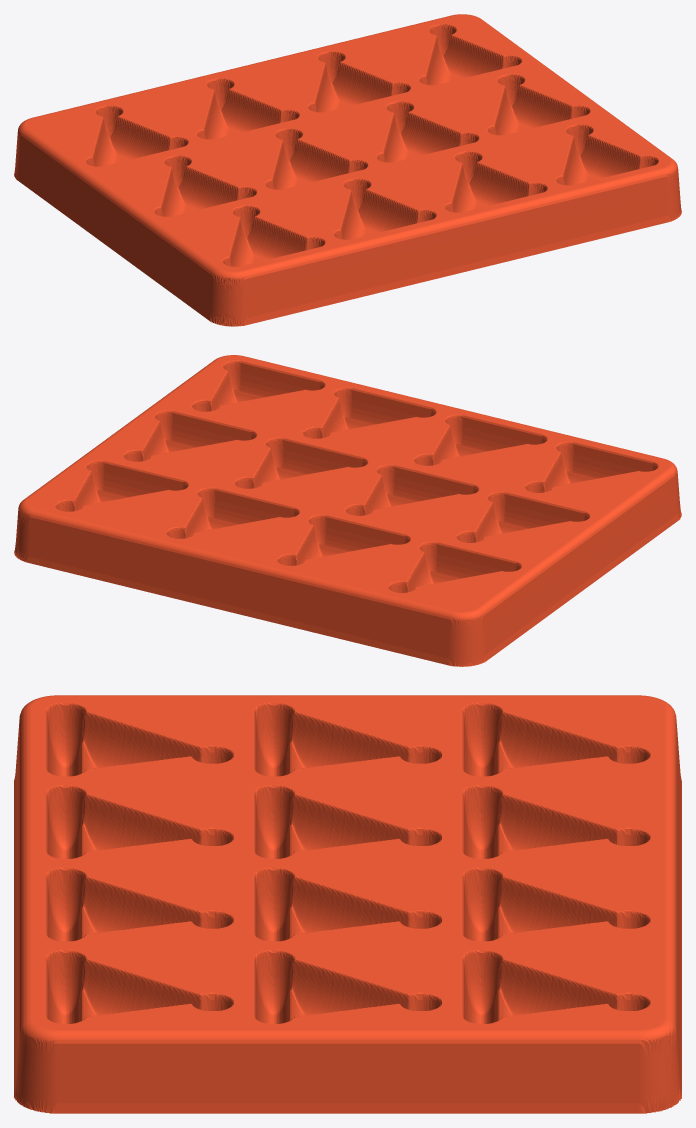
The model's file is mold.glb.
3 renders of one model, top to bottom at view 1: azimuth 30°, elevation 25°; view 2: azimuth 150°, elevation 25°; view 3: azimuth 270°, elevation 25°, orthographic. The views are drawn at different scales.
Visible parts, largest first — view 1: geometry_0; view 2: geometry_0; view 3: geometry_0.
Boxes of the visible parts, x1,y1,x2,y2 form: geometry_0: [14, 14, 681, 326]; geometry_0: [14, 355, 681, 666]; geometry_0: [14, 695, 681, 1113].
Size of the model in its own units: 0.1714 by 0.0175 by 0.1389.
